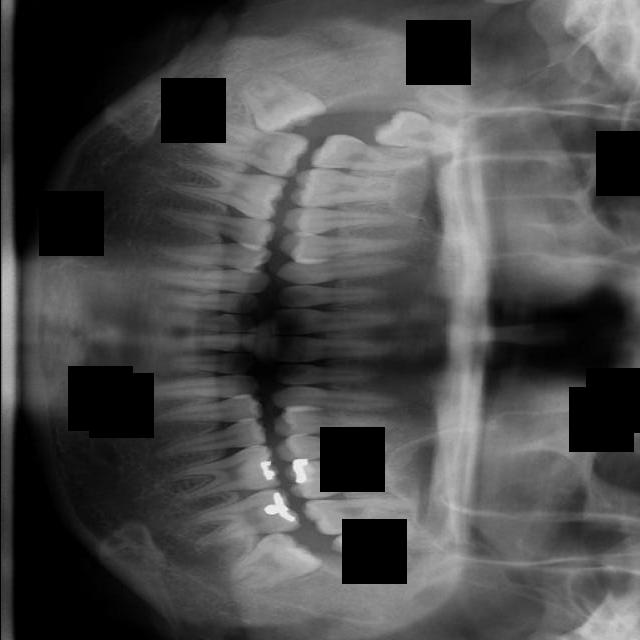3M ESPE Implant: (370, 104, 465, 162)
52: (243, 481, 303, 545), (228, 440, 283, 497), (283, 458, 340, 500)
73: (42, 606, 52, 618)
BioHorizons Implant: (300, 497, 401, 536)
BioLife Implant: (327, 517, 423, 573)
Biomet 3i Implant: (219, 519, 324, 600)
Blue Sky Bio Implant: (181, 484, 303, 549)
Caries: (308, 132, 432, 176)
Implant: (196, 117, 312, 181)
Keystone Dental Implant: (234, 50, 330, 146)
